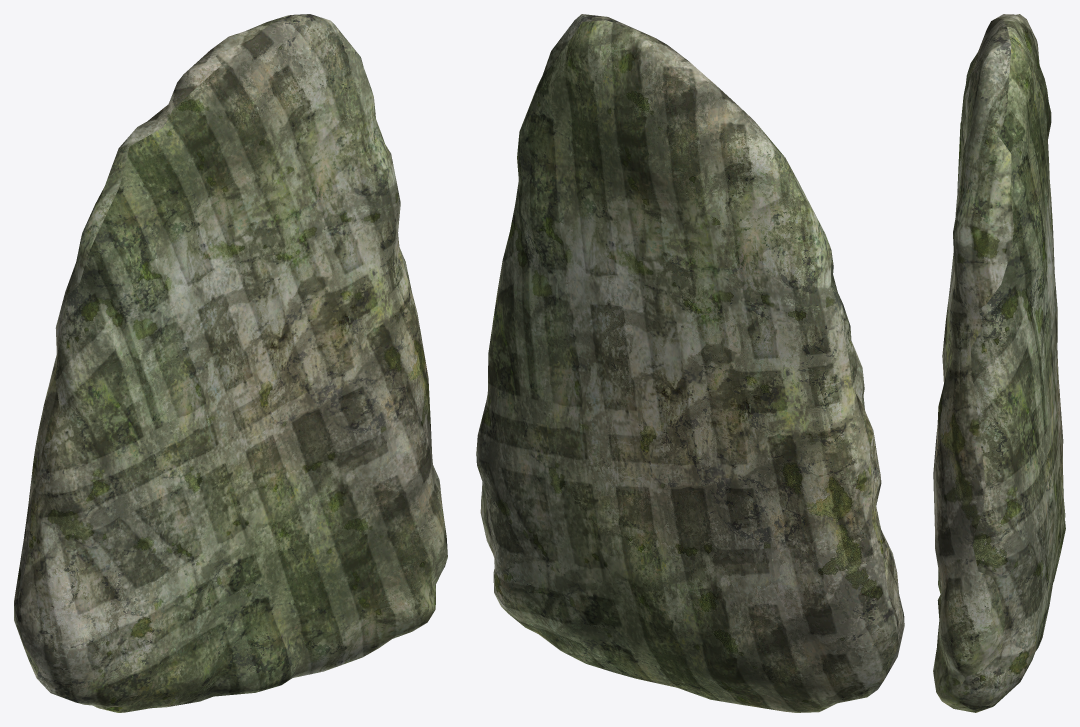
The picture shows the model from 3 angles, left to right: view 1: azimuth 30°, elevation 25°; view 2: azimuth 150°, elevation 25°; view 3: azimuth 270°, elevation 25°; orthographic projection.
Visible parts, largest first — view 1: stonehedge01b_stonehedge01bShape.001; view 2: stonehedge01b_stonehedge01bShape.001; view 3: stonehedge01b_stonehedge01bShape.001.
Part boxes in pixels (x1,y1,x2,y2): stonehedge01b_stonehedge01bShape.001: [14, 14, 447, 712]; stonehedge01b_stonehedge01bShape.001: [476, 14, 904, 712]; stonehedge01b_stonehedge01bShape.001: [933, 14, 1065, 712].
Size of the model in its own units: 12.06 by 18.12 by 3.29.
Materials: 1 (1 with a texture image).
